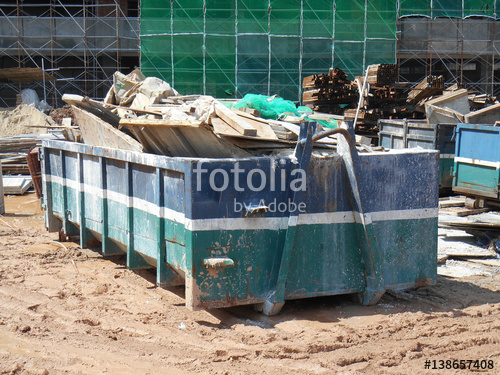Dumpster: (37, 110, 470, 327)
